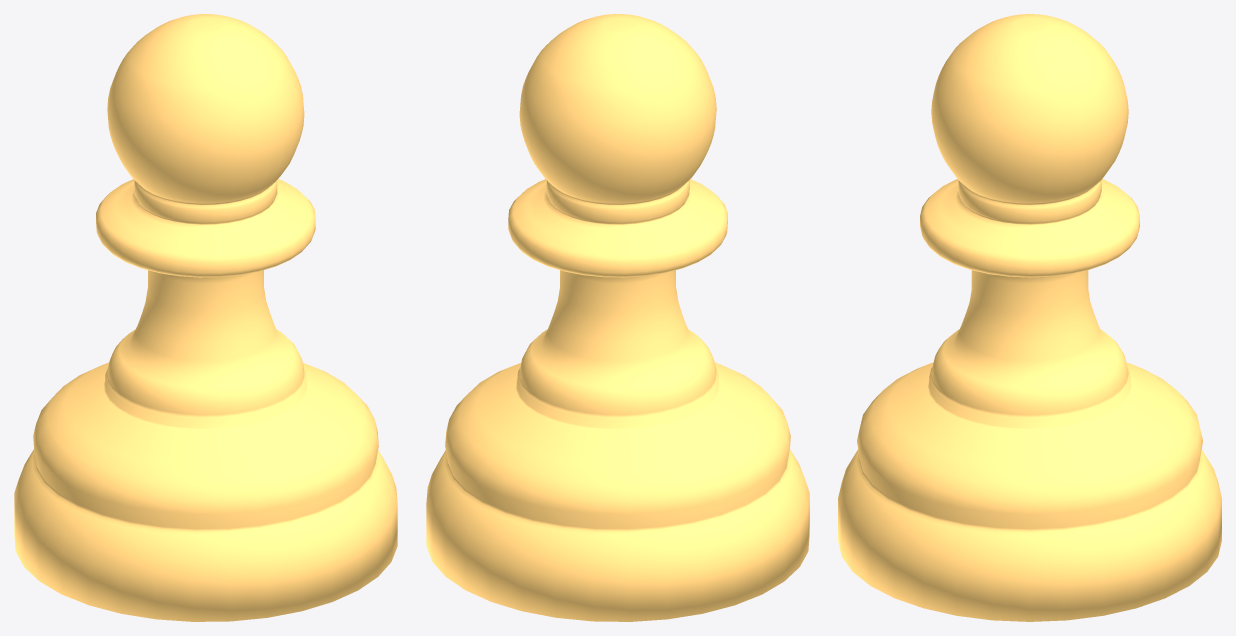
The model's file is peon.glb.
3 renders of one model, left to right at view 1: azimuth 30°, elevation 25°; view 2: azimuth 150°, elevation 25°; view 3: azimuth 270°, elevation 25°, orthographic.
Parts seen in each view (by area): view 1: peon_mesh; view 2: peon_mesh; view 3: peon_mesh.
Part boxes in pixels (box(x1,y1,x2,y2)): peon_mesh: box(14, 14, 397, 621); peon_mesh: box(426, 14, 809, 621); peon_mesh: box(838, 14, 1221, 621).
Size of the model in its own units: 2.42 by 3.59 by 2.42.
